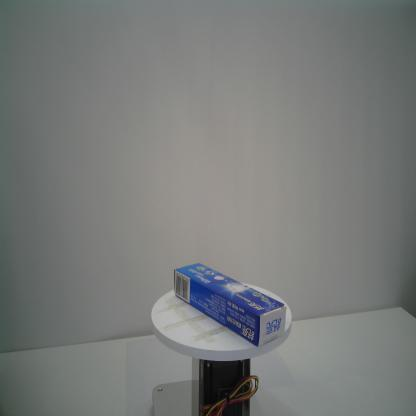Personal Hygiene: (173, 262, 287, 348)
